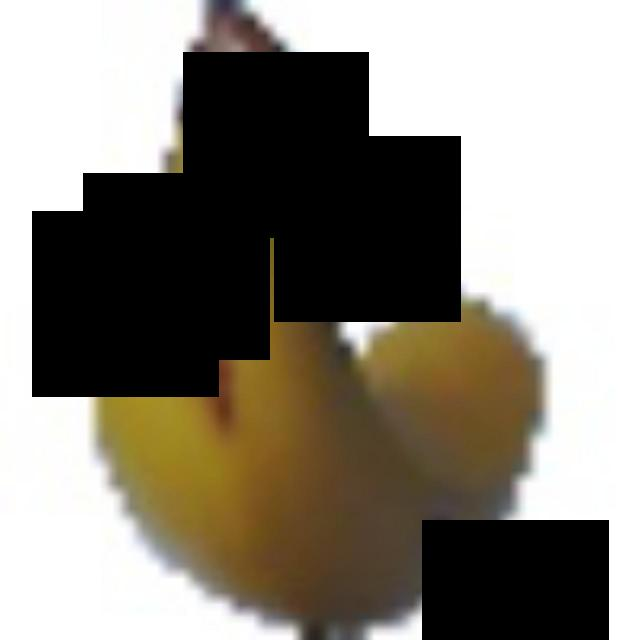banana: (96, 0, 556, 634)
